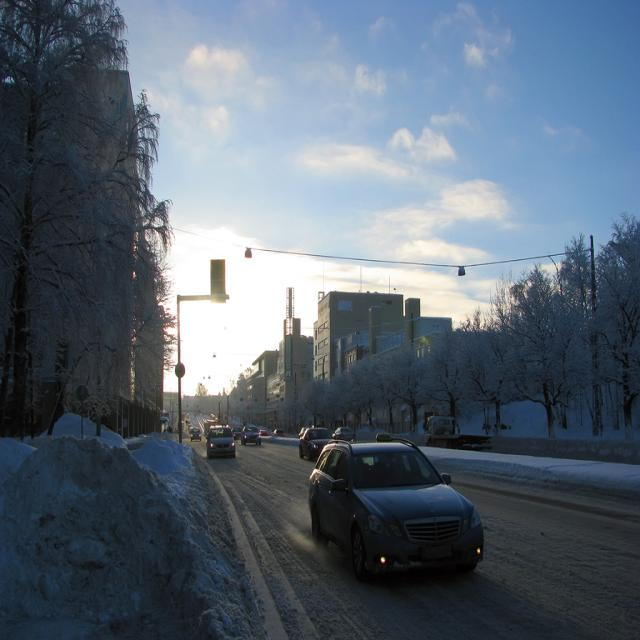car: (307, 436, 486, 583)
